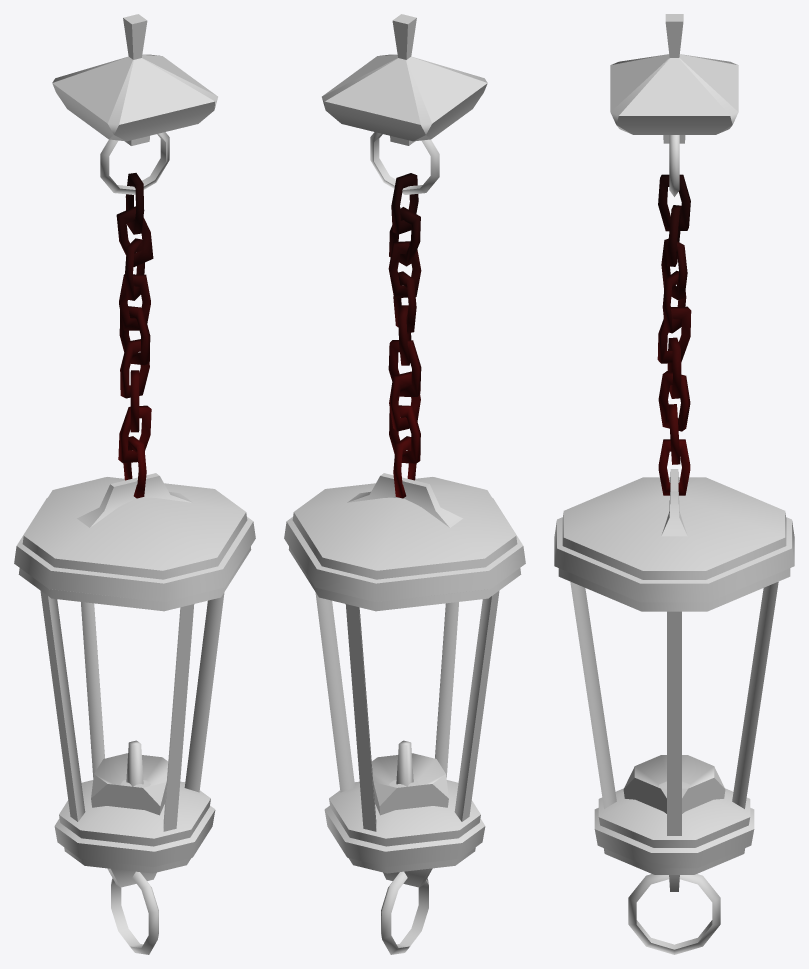
File: TAI_Lamp_01A.fbx
The picture shows the model from 3 angles, left to right: view 1: azimuth 30°, elevation 25°; view 2: azimuth 150°, elevation 25°; view 3: azimuth 270°, elevation 25°; orthographic projection.
Parts seen in each view (by area): view 1: TAI_Lamp_01A_LOD0; view 2: TAI_Lamp_01A_LOD0; view 3: TAI_Lamp_01A_LOD0.
Part boxes in pixels (x1,y1,x2,y2): TAI_Lamp_01A_LOD0: [14, 14, 255, 954]; TAI_Lamp_01A_LOD0: [284, 14, 525, 954]; TAI_Lamp_01A_LOD0: [554, 14, 794, 954].
Size of the model in its own units: 61.31 by 264 by 61.31.
